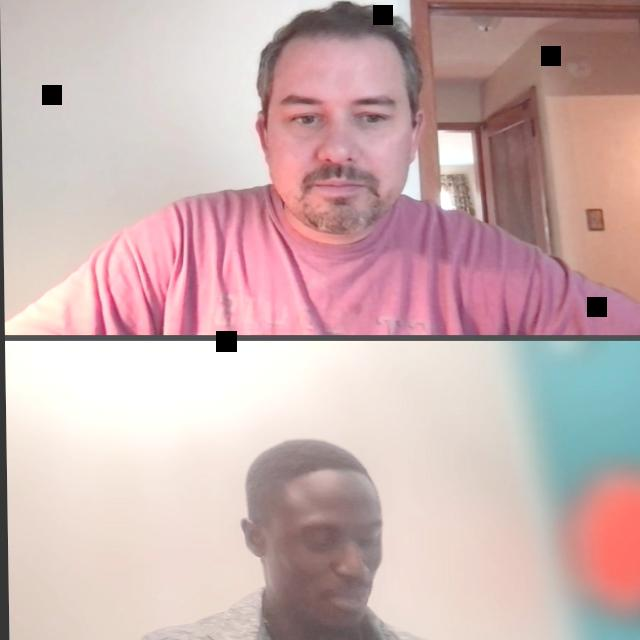NO-Mask: (256, 16, 422, 236), (238, 450, 384, 630)
